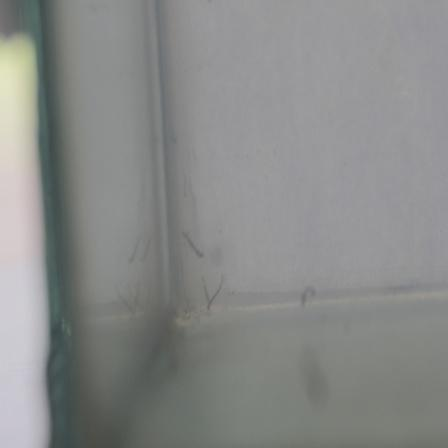Jentik-Nyamuk: (202, 269, 233, 313), (182, 226, 207, 263)
